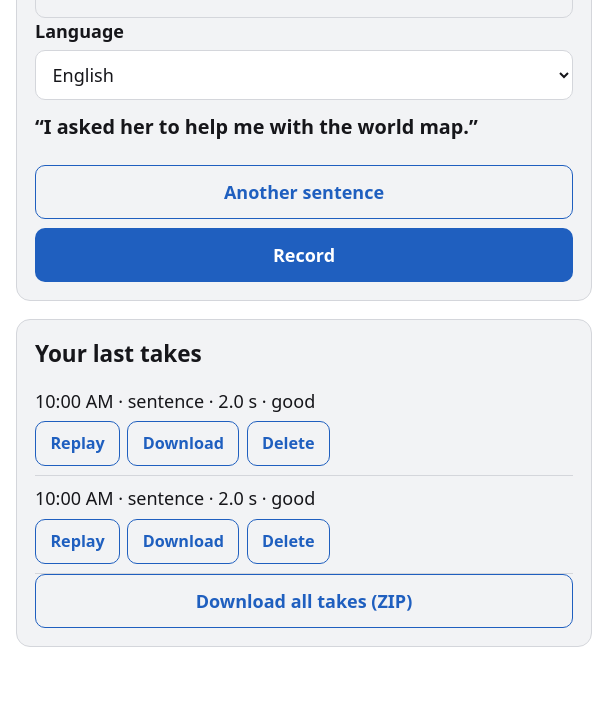
it: record screen › DownloadAll_SavesOneZipFile
(page scrolled)
Click the button "Download all takes (ZIP)" at (304, 601), box [35, 574, 573, 628]
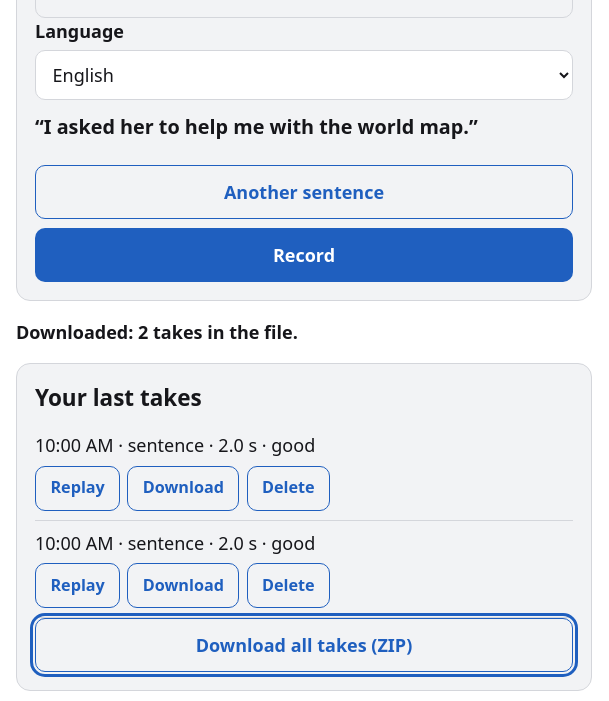
Check: the text "Downloaded: 2 takes in the file." is shown, box [16, 320, 298, 344]
